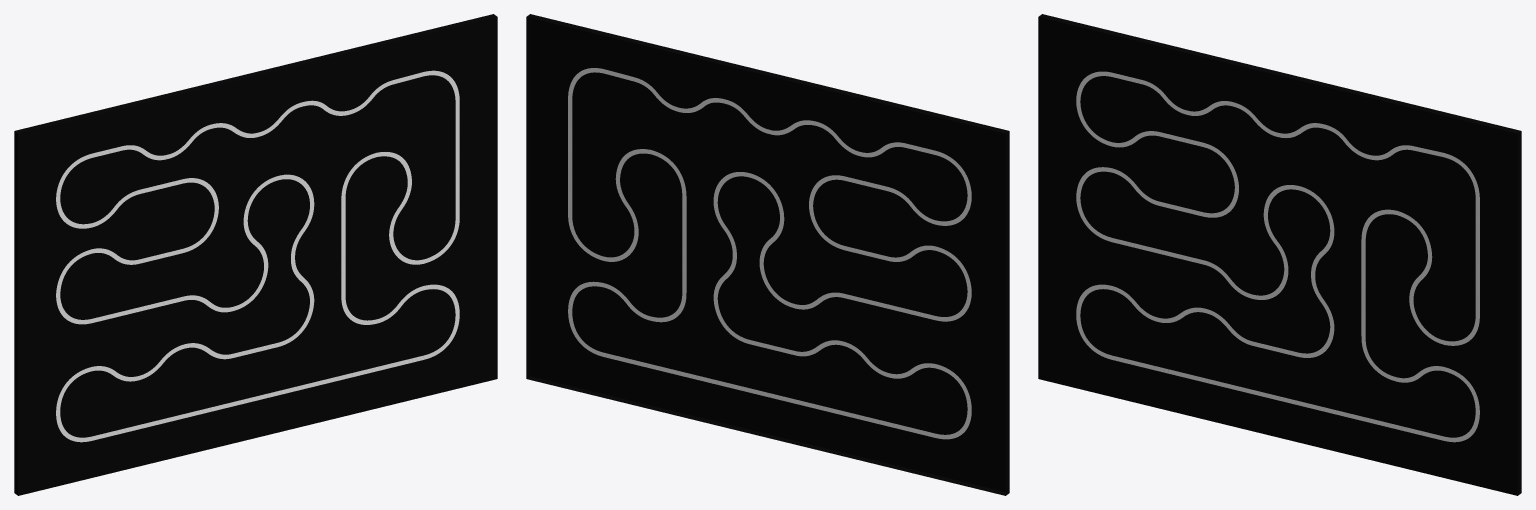
File: MiniTrack2.obj
3 views of the same model, side by side, from view 1: azimuth 30°, elevation 25°; view 2: azimuth 150°, elevation 25°; view 3: azimuth 330°, elevation 25° (orthographic).
Visible parts, largest first — view 1: Mini_track_2; view 2: Mini_track_2; view 3: Mini_track_2.
Boxes of the visible parts, x1,y1,x2,y2 form: Mini_track_2: [14, 14, 497, 495]; Mini_track_2: [526, 14, 1009, 495]; Mini_track_2: [1038, 14, 1521, 495].
Size of the model in its own units: 2.16 by 1.56 by 0.03.
